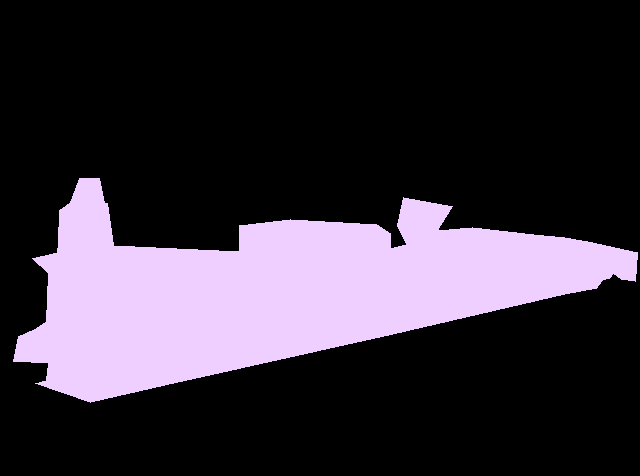Train: (13, 178, 637, 402)
